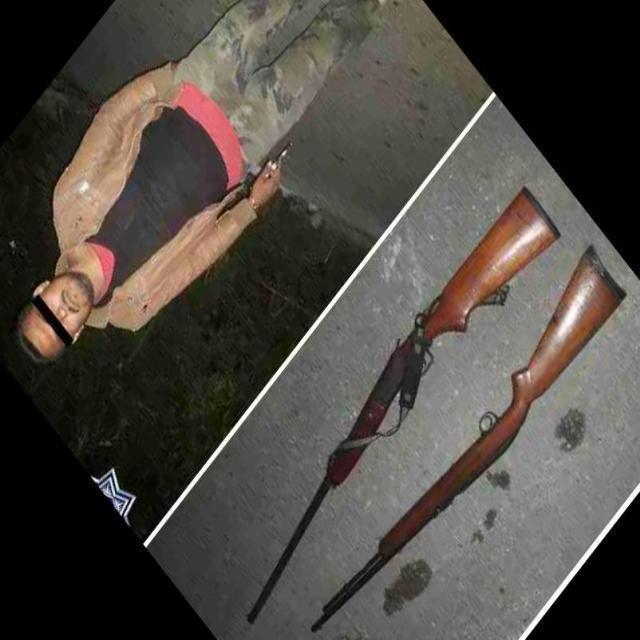Rifle: (246, 185, 564, 625), (310, 241, 630, 632)
